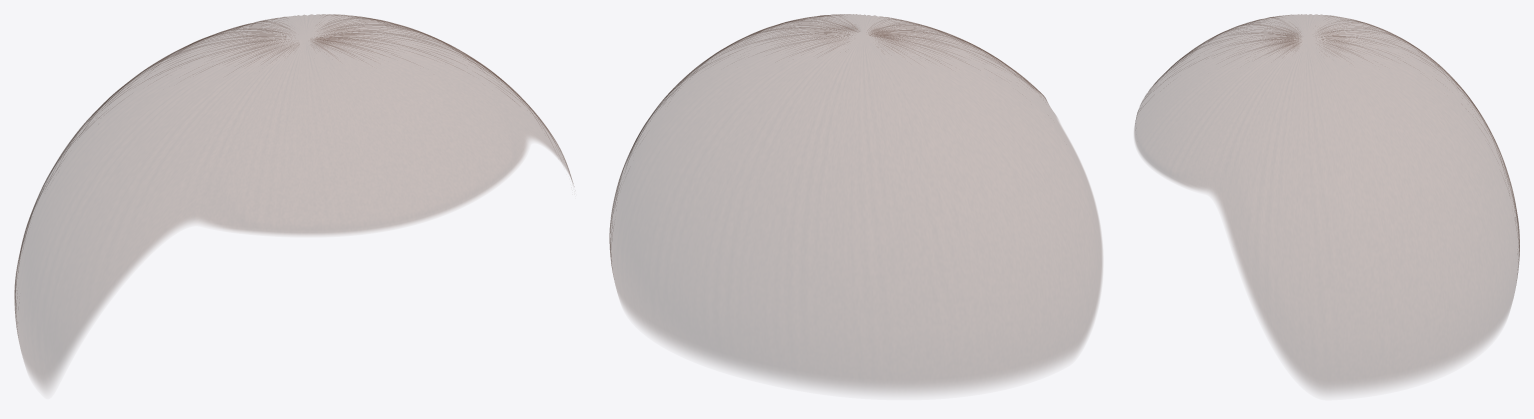
The model's file is Masculine-buzz-hair252.glb.
The picture shows the model from 3 angles, left to right: view 1: azimuth 30°, elevation 25°; view 2: azimuth 150°, elevation 25°; view 3: azimuth 270°, elevation 25°; orthographic projection. The views are drawn at different scales.
Parts seen in each view (by area): view 1: 226 hair / Hair252 / buzz edge; view 2: 226 hair / Hair252 / buzz edge; view 3: 226 hair / Hair252 / buzz edge.
Part boxes in pixels (left/top/right/bottom): 226 hair / Hair252 / buzz edge: left=14, top=14, right=573, bottom=389; 226 hair / Hair252 / buzz edge: left=609, top=14, right=1102, bottom=392; 226 hair / Hair252 / buzz edge: left=1134, top=14, right=1519, bottom=392.
Size of the model in its own units: 0.9886 by 0.5747 by 0.761.
1 material, 1 textured.
